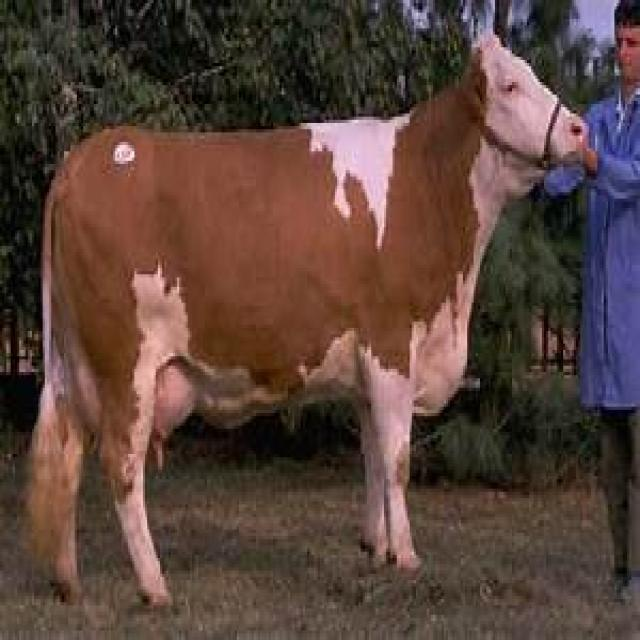cow: (13, 32, 593, 600)
